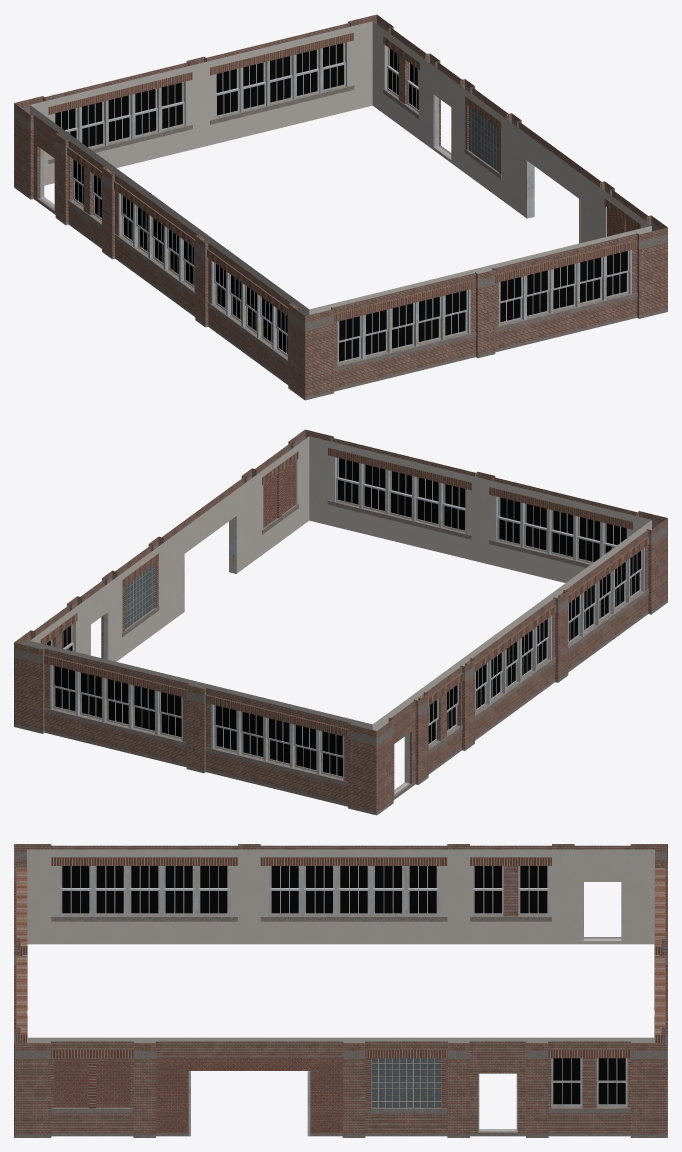
File: BuildingE_Bottom_VarA.fbx
3 renders of one model, top to bottom at view 1: azimuth 30°, elevation 25°; view 2: azimuth 150°, elevation 25°; view 3: azimuth 270°, elevation 25°, orthographic. The views are drawn at different scales.
Visible parts, largest first — view 1: BuildingE_Bottom_VarA; view 2: BuildingE_Bottom_VarA; view 3: BuildingE_Bottom_VarA.
Boxes of the visible parts, left/top/right/bottom form: BuildingE_Bottom_VarA: left=14, top=14, right=667, bottom=400; BuildingE_Bottom_VarA: left=14, top=429, right=667, bottom=815; BuildingE_Bottom_VarA: left=14, top=844, right=667, bottom=1137.
Size of the model in its own units: 1800 by 400 by 2500.
